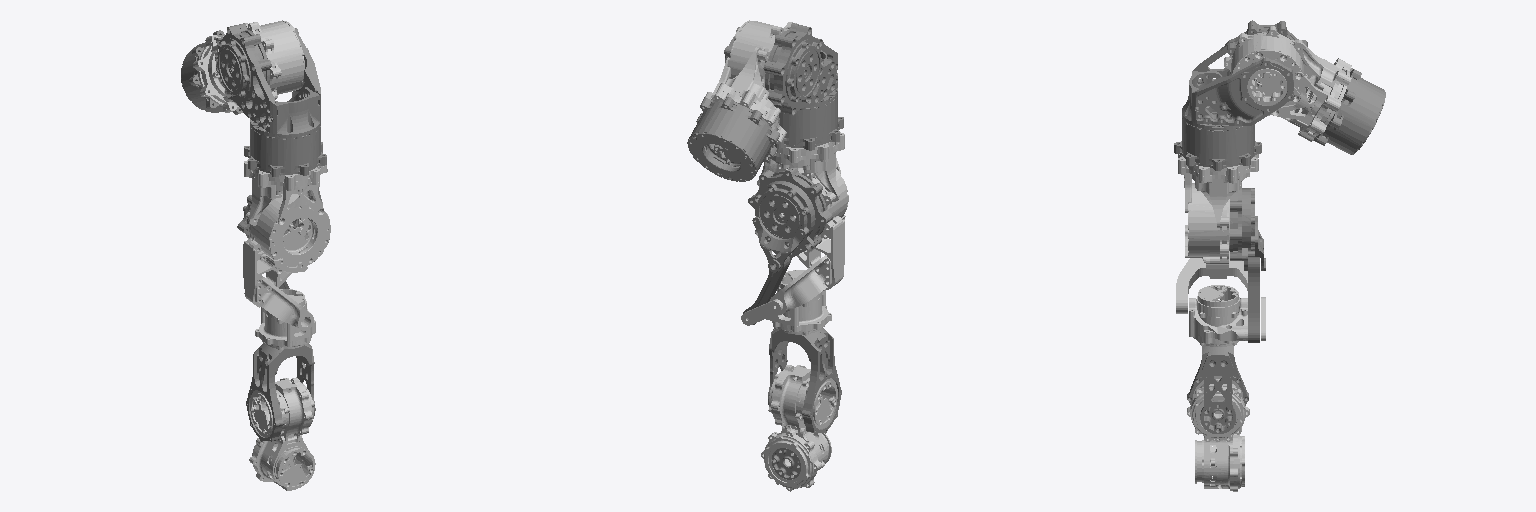
URDF robot description (raipal_R):
<?xml version="1.0" encoding="utf-8"?>
<robot name="raipal_R">
  <!-- [URDF-WRITER] Created with urdf-writer script (by CHH) on 2026-01-27 21:55:36.753289-->

  <!-- [URDF-WRITER] from module [_fixed-base] -->

  <!-- this link makes the robot fixed-base in RAISIM -->
  <link name="world"></link>

  <link name="base"></link>

  <joint name="base_fix" type="fixed">
    <origin xyz="0 0 0.8" rpy="0 0 0"/>
    <parent link="world" />
    <child link="base" />
    <axis xyz="0 0 0" />
  </joint>


  <!-- [URDF-WRITER] from module [raipal_R] -->

  <link name="R_base">
    <!-- CHH / 2025-09-01-20:14 -->
    <!-- link name: [R_base]-->
    <!-- frame: [R0_base]-->
    <inertial>
      <origin 
        xyz="-0.00013000 -0.06389000 -0.05559000"
        rpy="0 0 0" />
      <mass value="0.79658000" />
      <inertia
          ixx="0.00074742"
          ixy="1.892780e-6"
          ixz="-1.179560e-6"
          iyy="0.00098187"
          iyz="-0.00013334"
          izz="0.00082394" />
    </inertial>
    <visual>
      <origin
        xyz="0 0 0"
        rpy="0 0 0" />
      <geometry>
        <mesh filename="../meshes/R_base.STL" />
      </geometry>
      <material name="">
        <color rgba=".6 .6 .6 1" />
      </material>
    </visual>
    <!--<collision>
      <origin
        xyz="0 0 0"
        rpy="0 0 0" />
      <geometry>
        <mesh filename="../meshes/R_base.STL" />
      </geometry>
    </collision>-->
  </link>

  <joint name="R_fix" type="fixed">
    <origin xyz="0 0 0" rpy="0 0 0"/>
    <parent link="base" />
    <child link="R_base" />
    <axis xyz="0 0 0" />
  </joint>

  <link name="R_collar">
    <!-- CHH / 2025-09-01-20:14 -->
    <!-- link name: [R_collar]-->
    <!-- frame: [R1_flexion]-->
    <inertial>
      <origin 
        xyz="0.00471000 -1.000000e-5 0.10057000"
        rpy="0 0 0" />
      <mass value="1.72283000" />
      <inertia
          ixx="0.00466072"
          ixy="5.127800e-7"
          ixz="-0.00028338"
          iyy="0.00434837"
          iyz="8.010400e-7"
          izz="0.00167296" />
    </inertial>
    <visual>
      <origin
        xyz="0 0 0"
        rpy="0 0 0" />
      <geometry>
        <mesh filename="../meshes/R_collar.STL" />
      </geometry>
      <material name="">
        <color rgba="0.8 0.8 0.8 1" />
      </material>
    </visual>
    <!--<collision>
      <origin
        xyz="0 0 0"
        rpy="0 0 0" />
      <geometry>
        <mesh filename="../meshes/R_collar.STL" />
      </geometry>
    </collision>-->
  </link>

  <joint name="R1_flexion" type="revolute"> <!--[0]-->
    <origin
      xyz="0 -0.037198 -0.0709"
      rpy="1.0472 0 0" />
    <parent link="R_base" />
    <child link="R_collar" />
    <axis
      xyz="0 0 1" />
    <limit
      lower="-1.57"
      upper="3.14"
      effort="181"
      velocity="13.9" />
    <dynamics rotor_inertia = "0.0576402034658611" /> <!-- CHH / 2025-09-01-20:30-->
  </joint>

  <link name="R_shoulder">
    <!-- CHH / 2025-09-01-20:14 -->
    <!-- link name: [R_shoulder]-->
    <!-- frame: [R2_adduction]-->
    <inertial>
      <origin 
        xyz="-0.03309000 0.04277000 0.04408000"
        rpy="0 0 0" />
      <mass value="1.92988000" />
      <inertia
          ixx="0.00554587"
          ixy="0.00224326"
          ixz="-0.00046924"
          iyy="0.00422168"
          iyz="0.00058524"
          izz="0.00699049" />
    </inertial>
    <visual>
      <origin
        xyz="0 0 0"
        rpy="0 0 0" />
      <geometry>
        <mesh filename="../meshes/R_shoulder.STL" />
      </geometry>
      <material name="">
        <color rgba="0.6 0.6 0.6 1" />
      </material>
    </visual>
    <!--<collision>
      <origin
        xyz="0 0 0"
        rpy="0 0 0" />
      <geometry>
        <mesh filename="../meshes/R_shoulder.STL" />
      </geometry>
    </collision>-->
  </link>

  <joint name="R2_adduction" type="revolute"> <!--[1]-->
    <origin
      xyz="0.0373 0 0.1418"
      rpy="-1.5707963267949 1.0472 1.5707963267949" />
    <parent link="R_collar" />
    <child link="R_shoulder" />
    <axis
      xyz="0 0 -1" />
    <limit
      lower="-2.618"
      upper="0.488"
      effort="181"
      velocity="13.9" />
    <dynamics rotor_inertia = "0.0576402034658611" /> <!-- CHH / 2025-09-01-20:30-->
  </joint>

  <link name="R_humerus">
    <!-- CHH / 2025-09-01-20:14 -->
    <!-- link name: [R_humerus]-->
    <!-- frame: [R3_rotation]-->
    <inertial>
      <origin 
        xyz="-0.00369000 0.00351000 0.11625000"
        rpy="0 0 0" />
      <mass value="1.96262000" />
      <inertia
          ixx="0.00777442"
          ixy="-1.197057e-5"
          ixz="0.00065917"
          iyy="0.00822155"
          iyz="-0.00015972"
          izz="0.00201683" />
    </inertial>
    <visual>
      <origin
        xyz="0 0 0"
        rpy="0 0 0" />
      <geometry>
        <mesh filename="../meshes/R_humerus.STL" />
      </geometry>
      <material name="">
        <color rgba="0.8 0.8 0.8 1" />
      </material>
    </visual>
    <!--<collision>
      <origin
        xyz="0 0 0"
        rpy="0 0 0" />
      <geometry>
        <mesh filename="../meshes/R_humerus.STL" />
      </geometry>
    </collision>-->
  </link>

  <joint name="R3_rotation" type="revolute"> <!--[2]-->
    <origin
      xyz="-0.06 0.06025 0.0373"
      rpy="-1.5707963267949 1.5707963267949 0" />
    <parent link="R_shoulder" />
    <child link="R_humerus" />
    <axis
      xyz="0 0 -1" />
    <limit
      lower="-3.14"
      upper="3.14"
      effort="181"
      velocity="13.9" />
    <dynamics rotor_inertia = "0.0576402034658611" /> <!-- CHH / 2025-09-01-20:30-->
  </joint>

  <link name="R_elb_input">
    <!-- CHH / 2025-09-01-20:14 -->
    <!-- link name: [R_elb_input]-->
    <!-- frame: [R4a_elbow_power]-->
    <inertial>
      <origin 
        xyz="-2.000000e-5 0.00335000 0.05897000"
        rpy="0 0 0" />
      <mass value="0.83412000" />
      <inertia
          ixx="0.00071114"
          ixy="7.660000e-7"
          ixz="-9.255500e-7"
          iyy="0.00059983"
          iyz="-5.504818e-5"
          izz="0.00080767" />
    </inertial>
    <visual>
      <origin
        xyz="0 0 0"
        rpy="0 0 0" />
      <geometry>
        <mesh filename="../meshes/R_elb_input.STL" />
      </geometry>
      <material name="">
        <color rgba="0.6 0.6 0.6 1" />
      </material>
    </visual>
    <!--<collision>
      <origin
        xyz="0 0 0"
        rpy="0 0 0" />
      <geometry>
        <mesh filename="../meshes/R_elb_input.STL" />
      </geometry>
    </collision>-->
  </link>

  <joint name="R4a_elbow_power" type="revolute"> <!--[3]-->
    <origin
      xyz="0 0.0373 0.1418"
      rpy="1.5707963267949 0 0" />
    <parent link="R_humerus" />
    <child link="R_elb_input" />
    <axis
      xyz="0 0 1" />
    <limit
      lower="0"
      upper="1.556"
      effort="181"
      velocity="13.9" />
    <dynamics rotor_inertia = "0.0576402034658611" /> <!-- CHH / 2025-09-01-20:30-->
  </joint>

  <link name="R_elb_bar">
    <!-- CHH / 2025-09-01-20:14 -->
    <!-- link name: [R_elb_bar]-->
    <!-- frame: [R4b_elbow_bar_input]-->
    <inertial>
      <origin 
        xyz="0.04274000 0.00159000 -4.000000e-5"
        rpy="0 0 0" />
      <mass value="0.05314000" />
      <inertia
          ixx="2.335610e-6"
          ixy="0.0"
          ixz="0.0"
          iyy="6.149582e-5"
          iyz="-3.110000e-9"
          izz="6.199993e-5" />
    </inertial>
    <visual>
      <origin
        xyz="0 0 0"
        rpy="0 0 0" />
      <geometry>
        <mesh filename="../meshes/R_elb_bar.STL" />
      </geometry>
      <material name="">
        <color rgba="0.5 0.5 0.5 1" />
      </material>
    </visual>
    <!--<collision>
      <origin
        xyz="0 0 0"
        rpy="0 0 0" />
      <geometry>
        <mesh filename="../meshes/R_elb_bar.STL" />
      </geometry>
    </collision>-->
  </link>

  <joint name="R4b_elbow_bar_input" type="revolute"> <!--[4-unpowered]-->
    <origin
      xyz="0.00134978286029327 0.0599848154638326 0.0812119041053838"
      rpy="0 0 1.12941902735751" />
    <parent link="R_elb_input" />
    <child link="R_elb_bar" />
    <axis
      xyz="0 0 -1" />
    <limit
      lower="0"
      upper="1.802"
      effort="0"
      velocity="100" />
  </joint>

  <link name="R_ulna">
    <!-- CHH / 2025-09-01-20:14 -->
    <!-- link name: [R_ulna]-->
    <!-- frame: [R4_elbow]-->
    <inertial>
      <origin 
        xyz="0.00533000 0.01576000 -0.03891000"
        rpy="0 0 0" />
      <mass value="0.36947000" />
      <inertia
          ixx="0.00032310"
          ixy="-1.385696e-5"
          ixz="-4.244104e-5"
          iyy="0.00036383"
          iyz="-5.919040e-6"
          izz="0.00020708" />
    </inertial>
    <visual>
      <origin
        xyz="0 0 0"
        rpy="0 0 0" />
      <geometry>
        <mesh filename="../meshes/R_ulna.STL" />
      </geometry>
      <material name="">
        <color rgba="0.8 0.8 0.8 1" />
      </material>
    </visual>
    <!--<collision>
      <origin
        xyz="0 0 0"
        rpy="0 0 0" />
      <geometry>
        <mesh filename="../meshes/R_ulna.STL" />
      </geometry>
    </collision>-->
  </link>

  <joint name="R4_elbow" type="revolute"> <!--[5-unpowered]-->
    <origin
      xyz="0 -0.0439119041053754 0.25475"
      rpy="1.5707963267949 0 0" />
    <parent link="R_humerus" />
    <child link="R_ulna" />
    <axis
      xyz="0 0 -1" />
    <limit
      lower="0"
      upper="2.2689"
      effort="0"
      velocity="100" />
  </joint>

  <link name="R_radius">
    <!-- CHH / 2025-09-01-20:14 -->
    <inertial>
      <origin 
        xyz="0.00151000 0.0 0.10290000"
        rpy="0 0 0" />
      <mass value="0.42307000" />
      <inertia
          ixx="0.00112662"
          ixy="-1.975000e-8"
          ixz="-5.589578e-5"
          iyy="0.00120471"
          iyz="1.556000e-8"
          izz="0.00024138" />
    </inertial>
    <visual>
      <origin
        xyz="0 0 0"
        rpy="0 0 0" />
      <geometry>
        <mesh filename="../meshes/R_radius.STL" />
      </geometry>
      <material name="">
        <color rgba="0.6 0.6 0.6 1" />
      </material>
    </visual>
    <!--</collision>
      <origin
        xyz="0 0 0"
        rpy="0 0 0" />
      <geometry>
        <mesh filename="../meshes/R_radius.STL" />
      </geometry>
    </collision>-->
  </link>

  <joint name="R5_roll" type="revolute">  <!--[6]-->
    <origin
      xyz="0 -0.0135819531869474 -0.0439119041053754"
      rpy="-1.5707963267949 0 0" />
    <parent link="R_ulna" />
    <child link="R_radius" />
    <axis
      xyz="0 0 -1" />
    <limit
      lower="-1.57"
      upper="1.57"
      effort="12.61"
      velocity="53.8" />
    <dynamics rotor_inertia = "0.000540543349430043" /> <!-- CHH / 2025-09-01-20:30-->
  </joint>

  <link name="R_carpal">
    <!-- CHH / 2025-09-01-20:14 -->
    <inertial>
      <origin 
        xyz="-0.00117000 0.03421000 0.02964000"
        rpy="0 0 0" />
      <mass value="0.67981000" />
      <inertia
          ixx="0.00128813"
          ixy="3.134577e-5"
          ixz="3.268690e-6"
          iyy="0.00040998"
          iyz="-9.323146e-5"
          izz="0.00126953" />
    </inertial>
    <visual>
      <origin
        xyz="0 0 0"
        rpy="0 0 0" />
      <geometry>
        <mesh filename="../meshes/R_carpal.STL" />
      </geometry>
      <material name="">
        <color rgba="0.8 0.8 0.8 1" />
      </material>
    </visual>
    <!--</collision>
      <origin
        xyz="0 0 0"
        rpy="0 0 0" />
      <geometry>
        <mesh filename="../meshes/R_carpal.STL" />
      </geometry>
    </collision>-->
  </link>

  <joint name="R6_pitch" type="revolute">  <!--[7]-->
    <origin
      xyz="-0.0337 0 0.153581953186935"
      rpy="1.5707963267949 0 1.5707963267949" />
    <parent link="R_radius" />
    <child link="R_carpal" />
    <axis
      xyz="0 0 1" />
    <limit
      lower="-2.0944"
      upper="2.0944"
      effort="12.61"
      velocity="53.8" />
    <dynamics rotor_inertia = "0.000540543349430043" /> <!-- CHH / 2025-09-01-20:30-->
  </joint>

  <link name="R_ee">
    <!-- CHH / 2025-09-01-20:14 -->
    <inertial>
      <origin 
        xyz="0.0 0.0 0.04531000"
        rpy="0 0 0" />
      <mass value="0.13143000" />
      <inertia
          ixx="3.339173e-5"
          ixy="0.0"
          ixz="0.0"
          iyy="3.339173e-5"
          iyz="0.0"
          izz="4.133016e-5" />
    </inertial>
    <visual>
      <origin
        xyz="0 0 0"
        rpy="0 0 0" />
      <geometry>
        <mesh filename="../meshes/R_ee.STL" />
      </geometry>
      <material name="">
        <color rgba="0.6 0.6 0.6 1" />
      </material>
    </visual>
    <!--</collision>
      <origin
        xyz="0 0 0"
        rpy="0 0 0" />
      <geometry>
        <mesh filename="../meshes/R_ee.STL" />
      </geometry>
    </collision>-->
  </link>

  <joint name="R7_yaw" type="revolute">  <!--[8]-->
    <origin
      xyz="0.0264 0.073 0.0337"
      rpy="0 -1.5707963267949 0" />
    <parent link="R_carpal" />
    <child link="R_ee" />
    <axis
      xyz="0 0 -1" />
    <limit
      lower="-1.57079"
      upper="1.57079"
      effort="12.61"
      velocity="53.8" />
    <dynamics rotor_inertia = "0.000540543349430043" /> <!-- CHH / 2025-09-01-20:30-->
  </joint>

  <!-- Imaginary links for loop closure -->
  <link name="R_loop_barside"></link>

  <joint name="R4cA_elbow_loop_bar" type="fixed">
    <origin
      xyz="0.0854747786370337 0 0"
      rpy="0 0 0" />
    <parent link="R_elb_bar" />
    <child link="R_loop_barside" />
    <axis
      xyz="0 0 1" />
    <!-- relaxed limits since others are constrained -->
    <limit
      lower="-3.14"
      upper="3.14"
      effort="0"
      velocity="100" />
  </joint>

  <link name="R_loop_ulnaside"></link>

  <joint name="R4cB_elbow_loop_ulna_fixed" type="fixed">
    <origin
      xyz="0.0378633410992504 0.0243180468130526 0"
      rpy="0 0 1.12941902735751" />
    <parent link="R_ulna" />
    <child link="R_loop_ulnaside" />
    <axis
      xyz="0 0 0" />
  </joint>

  
  <!-- [URDF-WRITER] merged constraints -->
  <constraints nominal_config="0 0 0 0 0 0 0 0 0 0 0 0 0 0 0 0 0 0 0 0 0">
    <pin body1="R_loop_barside" body2="R_loop_ulnaside" anchor="0.0 0.0 0.0"/>
  </constraints>

</robot>

--- Facts derived from the render (not from the file) ---
3 views of the same robot in one strip: view 1: azimuth 30°, elevation 25°; view 2: azimuth 150°, elevation 25°; view 3: azimuth 270°, elevation 25° (orthographic).
Robot: raipal_R — 14 links, 13 joints (9 revolute, 4 fixed); root link world; default pose: every joint at zero.
Visible links, largest first — view 1: R_shoulder, R_humerus, R_carpal, R_collar, R_radius, R_ulna, R_base; view 2: R_shoulder, R_humerus, R_elb_input, R_carpal, R_base, R_collar, R_radius, R_ulna, R_ee, R_elb_bar; view 3: R_shoulder, R_collar, R_humerus, R_carpal, R_ulna, R_base, R_radius, R_elb_input, R_elb_bar.
Boxes of the visible links, box(x1,y1,x2,y2) form: R_shoulder: box(215, 23, 326, 176); R_humerus: box(243, 160, 330, 330); R_carpal: box(249, 377, 315, 490); R_collar: box(193, 20, 304, 112); R_radius: box(246, 343, 315, 441); R_ulna: box(255, 289, 315, 349); R_base: box(181, 30, 242, 114); R_shoulder: box(724, 23, 843, 150); R_humerus: box(757, 132, 848, 314); R_elb_input: box(748, 168, 832, 272); R_carpal: box(761, 365, 837, 491); R_base: box(687, 97, 779, 181); R_collar: box(704, 20, 796, 143); R_radius: box(768, 328, 841, 433); R_ulna: box(741, 270, 831, 335); R_ee: box(772, 448, 800, 479); R_elb_bar: box(743, 252, 790, 324); R_shoulder: box(1174, 20, 1307, 170); R_collar: box(1224, 26, 1351, 141); R_humerus: box(1176, 154, 1258, 313); R_carpal: box(1187, 376, 1249, 491); R_ulna: box(1189, 285, 1265, 346); R_base: box(1313, 68, 1385, 154); R_radius: box(1187, 345, 1248, 433); R_elb_input: box(1230, 182, 1265, 270); R_elb_bar: box(1248, 257, 1259, 342).
Size in the robot's own frame: 0.108 by 0.2589 by 0.62 metres.
Meshes: 10 distinct files referenced, 10 mesh visuals loaded (10 binary STL).
